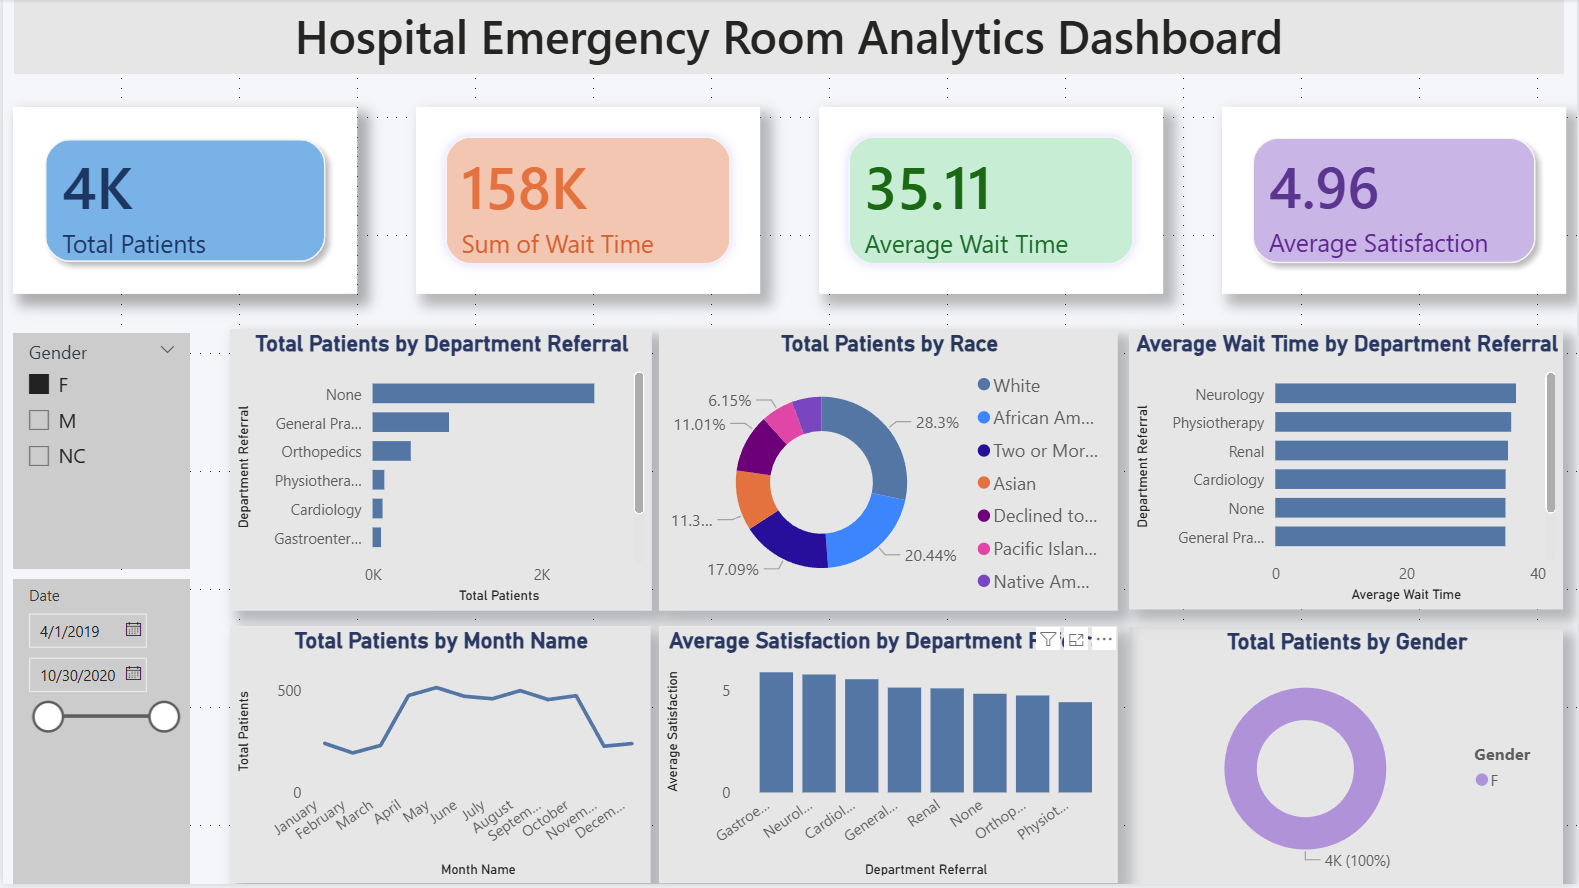

The dashboard page shown, as its layout file describes it:
{"tool":"powerbi","page":{"name":"Dashboard","canvas":[1280,720],"ordinal":0},"visuals":[{"type":"cardVisual","fields":{"Data":["Fact_Patient.Total Patients"]},"box":[8,88,280,152],"z":0},{"type":"cardVisual","fields":{"Data":["Sum(Fact_Patient.Wait Time)"]},"box":[336,88,280,152],"z":1000},{"type":"cardVisual","fields":{"Data":["Dim_Date.Average Satisfaction"]},"box":[992,88,280,152],"z":2000},{"type":"cardVisual","fields":{"Data":["Dim_Date.Average Wait Time"]},"box":[664,88,280,152],"z":3000},{"type":"donutChart","fields":{"Category":["Dim_Gender.Gender"],"Y":["Fact_Patient.Total Patients"]},"box":[916.2,510.9,352.9,209.4],"z":4000},{"type":"clusteredBarChart","fields":{"Category":["Dim_Department.Department Referral"],"Y":["Fact_Patient.Total Patients"]},"box":[184.8,268.6,342.9,228.6],"z":5000},{"type":"donutChart","fields":{"Category":["Dim_Race.Race"],"Y":["Fact_Patient.Total Patients"]},"box":[533.3,268.6,373.3,228.6],"z":6000},{"type":"lineChart","fields":{"Y":["Fact_Patient.Total Patients"],"Category":["Dim_Date.Month Name"]},"box":[185,510,342.1,209.4],"z":7000},{"type":"clusteredColumnChart","fields":{"Category":["Dim_Department.Department Referral"],"Y":["Dim_Date.Average Satisfaction"]},"box":[533.5,510,372.8,209.4],"z":8000},{"type":"slicer","fields":{"Values":["Dim_Date.Date"]},"box":[8,472,144,248],"z":9000},{"type":"slicer","fields":{"Values":["Dim_Gender.Gender"]},"box":[8,272,144,192],"z":10000},{"type":"clusteredBarChart","fields":{"Category":["Dim_Department.Department Referral"],"Y":["Dim_Date.Average Wait Time"]},"box":[916.2,268.6,353.3,227.6],"z":11000},{"type":"textbox","box":[8.6,0,1261,61],"z":12000}]}

Visuals, with their boxes in screenshot pixels (x1, y1, x2, y2), scaled from the page's 1280x720 canvas onto the 1579x888 screenshot:
cardVisual - Fact_Patient.Total Patients: 10,109,355,296
cardVisual - Sum(Fact_Patient.Wait Time): 414,109,760,296
cardVisual - Dim_Date.Average Satisfaction: 1224,109,1569,296
cardVisual - Dim_Date.Average Wait Time: 819,109,1165,296
donutChart - Dim_Gender.Gender x Fact_Patient.Total Patients: 1130,630,1566,887
clusteredBarChart - Dim_Department.Department Referral x Fact_Patient.Total Patients: 228,331,651,613
donutChart - Dim_Race.Race x Fact_Patient.Total Patients: 658,331,1118,613
lineChart - Fact_Patient.Total Patients x Dim_Date.Month Name: 228,629,650,887
clusteredColumnChart - Dim_Department.Department Referral x Dim_Date.Average Satisfaction: 658,629,1118,887
slicer - Dim_Date.Date: 10,582,188,887
slicer - Dim_Gender.Gender: 10,335,188,572
clusteredBarChart - Dim_Department.Department Referral x Dim_Date.Average Wait Time: 1130,331,1566,612
textbox: 11,0,1566,75
